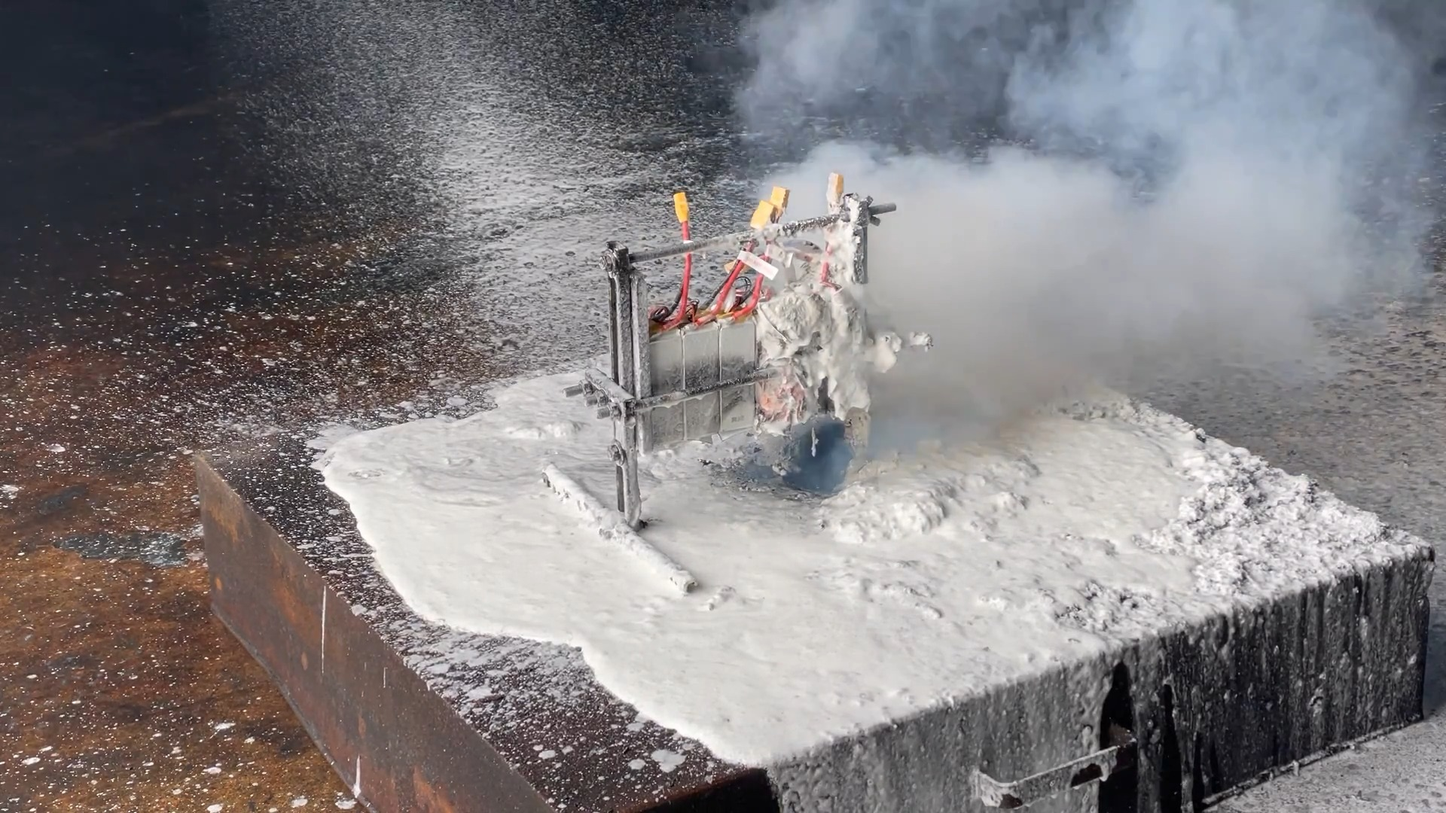smoke: (731, 1, 1444, 458)
